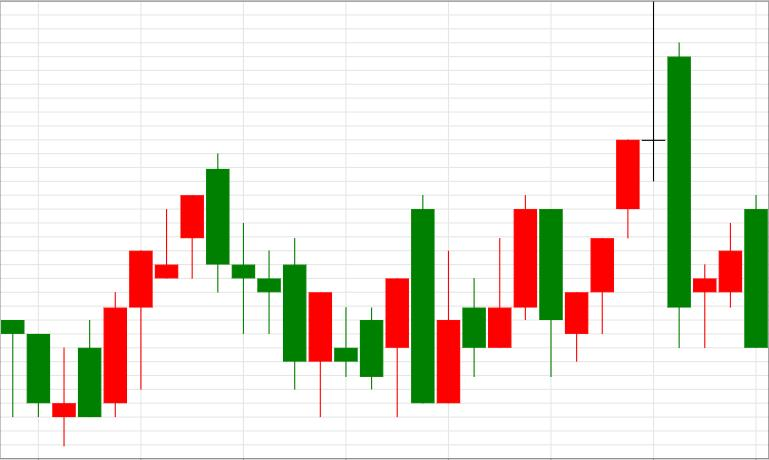bearish_engulfing_fall: (53, 152, 229, 447)
